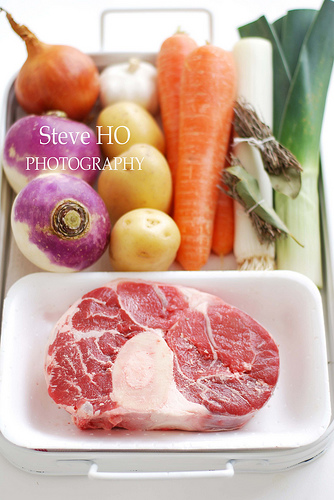turnip: (11, 172, 111, 271), (0, 106, 98, 192)
